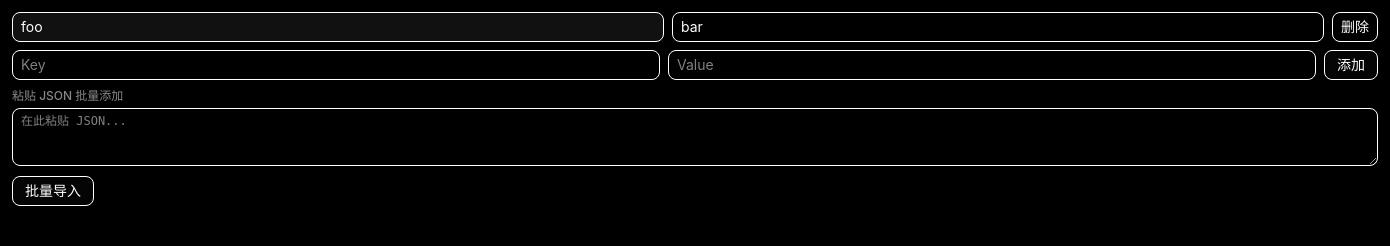
KeyValueEditor › prevents duplicate keys
Step 1. Type "foo" into the field with test id "kv-new-key" → x=336, y=65, box [12,50,660,80]
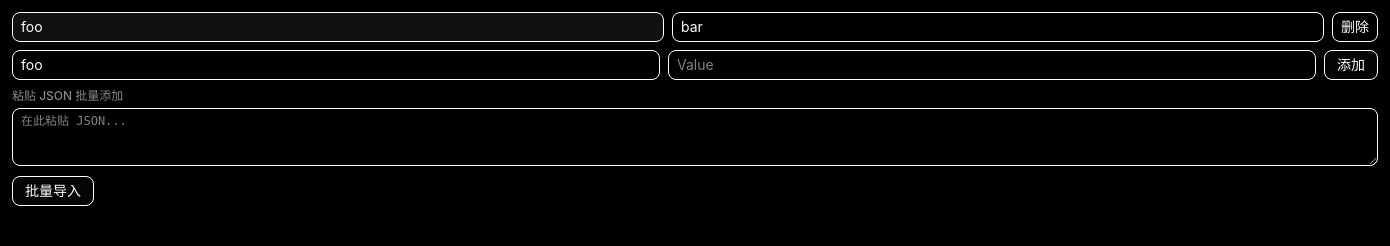
Step 2. Click the button with test id "kv-add" → x=1351, y=65, box [1324,50,1378,80]
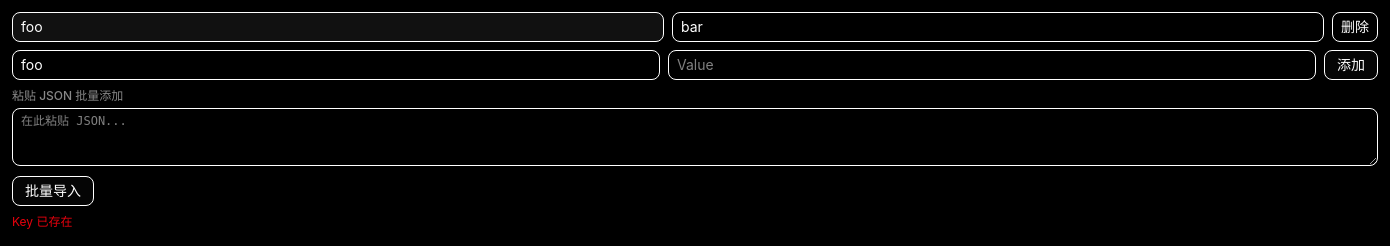
Now the text with test id "kv-error" reads "Key 已存在", box [12,214,72,229]
